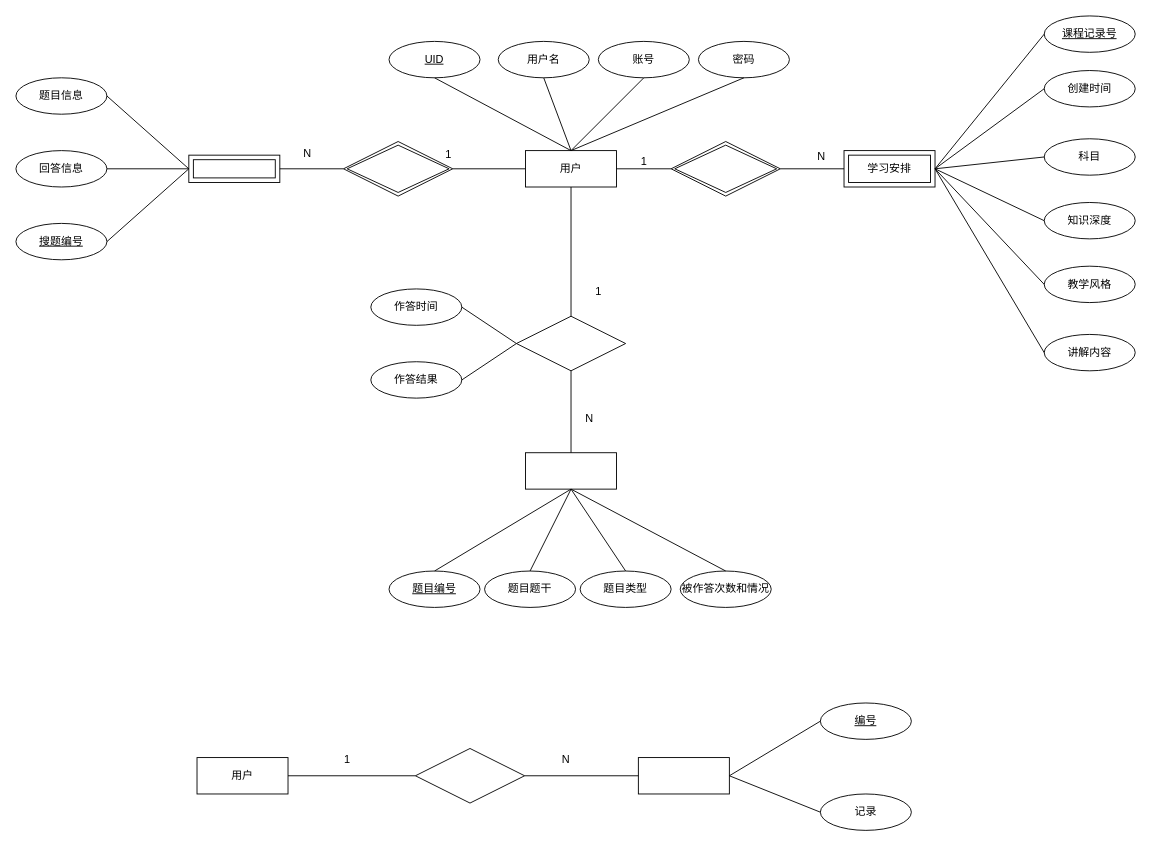
This 1151x846 diagram has some shape labels left out. Each missing label, with the box of its shape:
使用: (415, 748, 525, 803)
制定和学习: (670, 141, 780, 196)
搜题题目: (188, 154, 280, 182)
练习: (516, 315, 626, 371)
英语练习: (637, 757, 729, 794)
询问解答: (343, 141, 453, 196)
题库题目: (525, 452, 617, 489)
